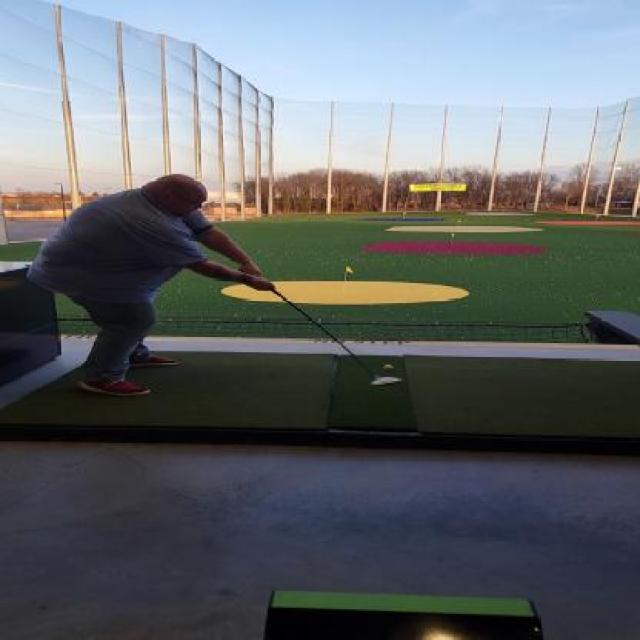club head: (364, 373, 411, 389)
